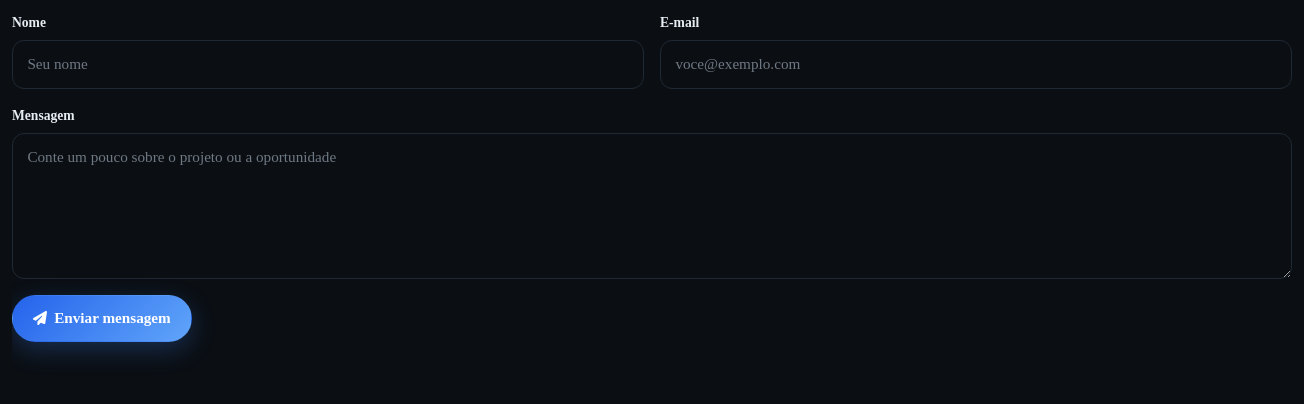
Scenario: <ContactForm /> › mostra os erros traduzidos e mantem o que foi digitado
This screenshot has width=1304, height=404.
Click the button "Enviar mensagem".
click(102, 318)  # box [12,295,192,342]
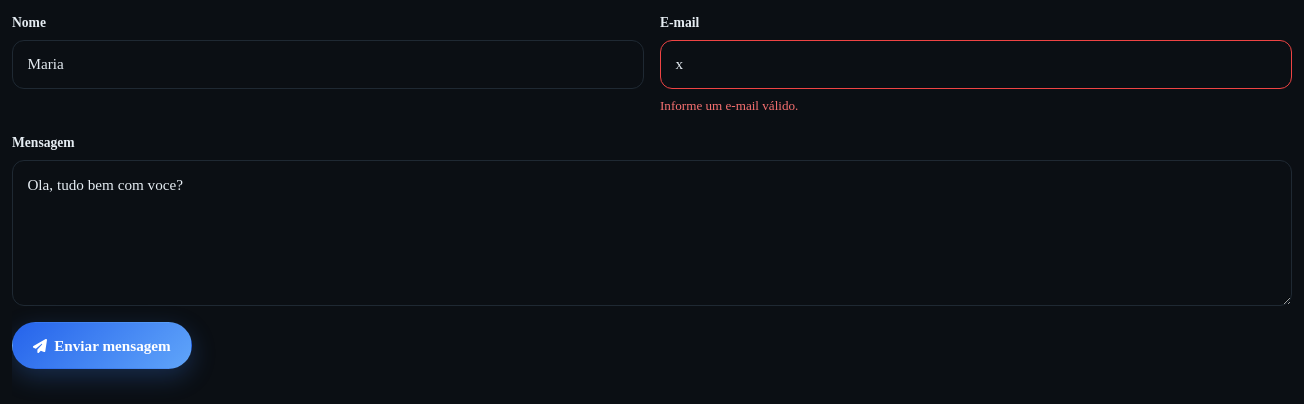
Expected: the field labelled "E-mail" holds "x", [660,40,1292,89]
Expected: the field labelled "Nome" holds "Maria", [12,40,644,89]
